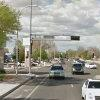Car: (45, 60, 82, 83)
